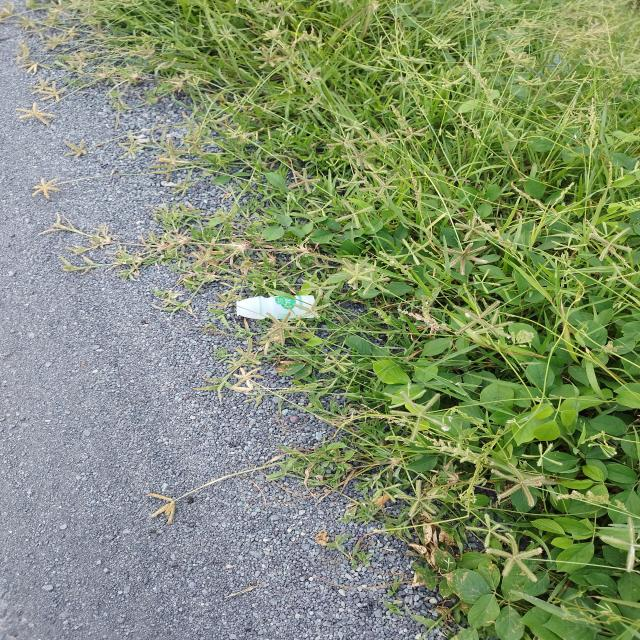bottle: (236, 295, 315, 320)
